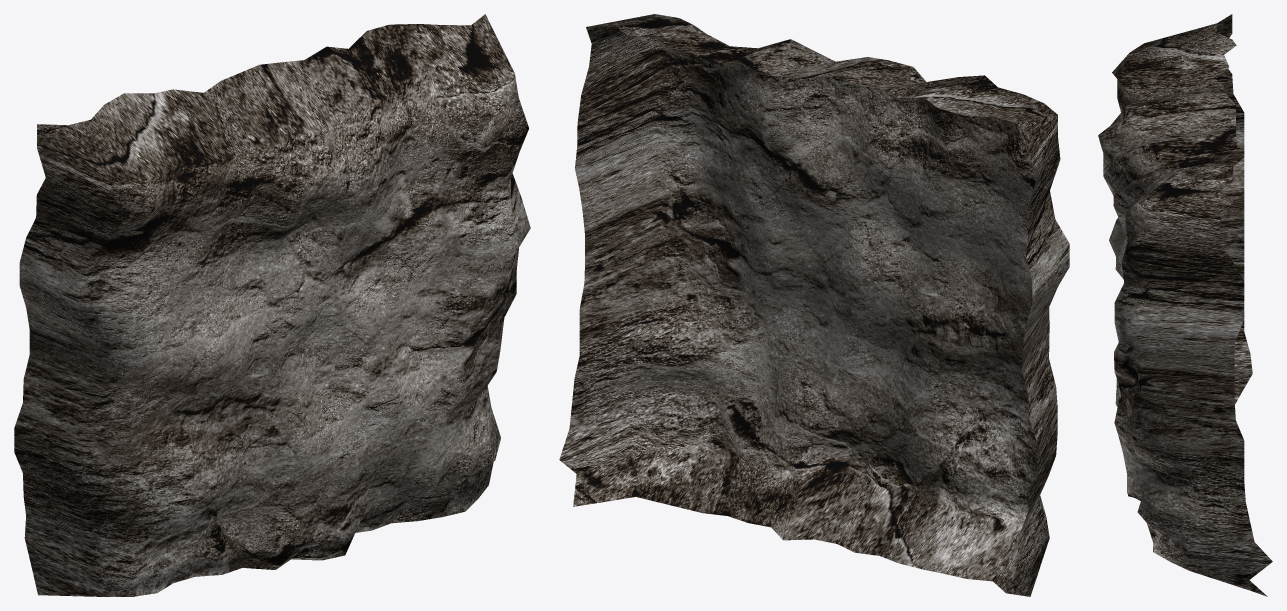
The model's file is MOD_Cave_Wall_V2.fbx.
3 views of the same model, side by side, from view 1: azimuth 30°, elevation 25°; view 2: azimuth 150°, elevation 25°; view 3: azimuth 270°, elevation 25° (orthographic). The views are drawn at different scales.
Visible parts, largest first — view 1: pPlane1; view 2: pPlane1; view 3: pPlane1.
Boxes of the visible parts, left/top/right/bottom form: pPlane1: left=14, top=14, right=530, bottom=596; pPlane1: left=559, top=14, right=1069, bottom=596; pPlane1: left=1098, top=14, right=1272, bottom=596.
Bounding box in the file's own units: 1047 × 1015 × 397.
